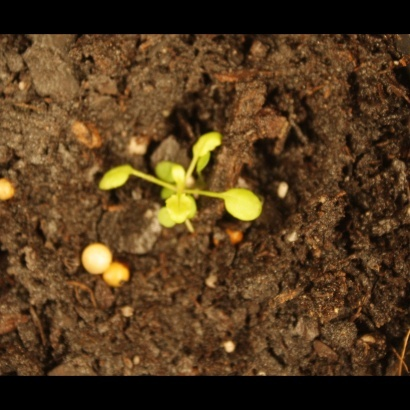leaf: (222, 186, 266, 227), (93, 161, 138, 194), (189, 123, 223, 160), (164, 193, 196, 229), (156, 159, 179, 182), (170, 164, 193, 187), (157, 204, 180, 227)
